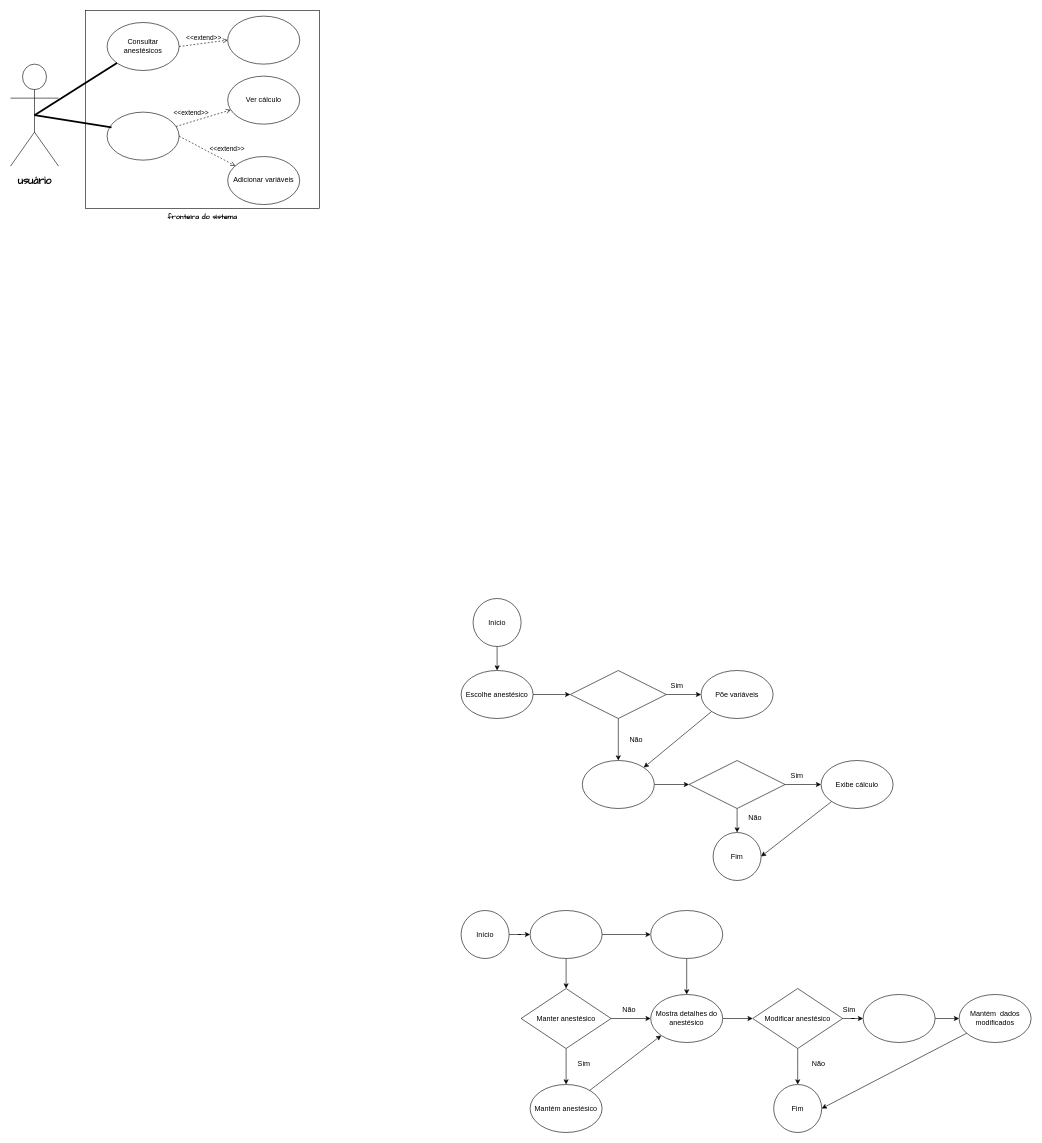
Some shapes in this 1042 by 1143 pixel diagram are drawn without their labels. Here are the shapes that lost their labels. From the top down, the box of each, then its label:
(227, 16, 300, 64): Manter anestésicos
(106, 112, 179, 160): Fazer Cálculo
(570, 670, 666, 718): Mais variáveis
(582, 760, 654, 808): Faz o cálculo
(688, 760, 785, 808): Exibir cálculo
(530, 910, 602, 958): Procura anestésico
(650, 910, 723, 958): Seleciona anestésico na liista
(862, 994, 935, 1042): Modifica detalhes do anestésico
